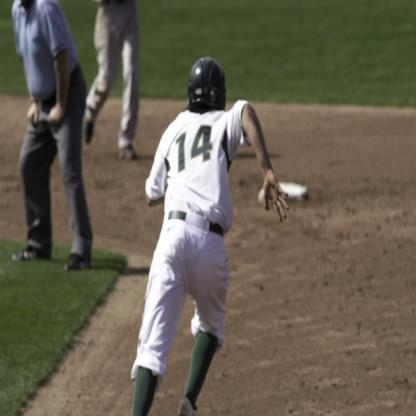Helmet: (184, 57, 228, 113)
